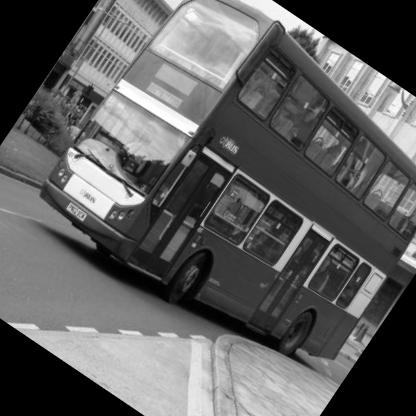bus: (14, 1, 416, 416)
